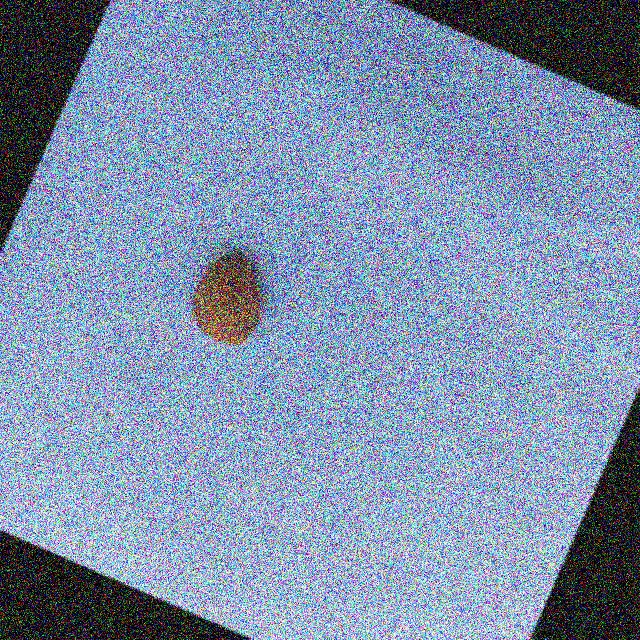grade2: (176, 238, 288, 358)
